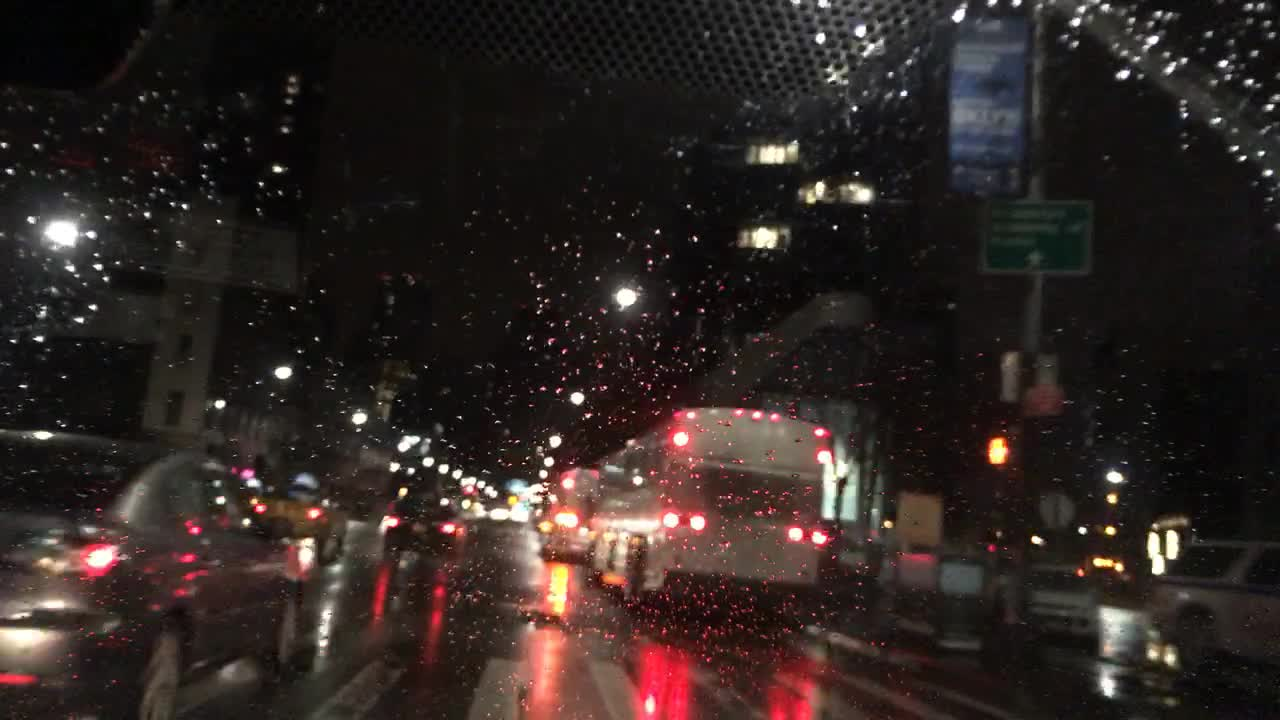bus: (591, 406, 832, 611), (540, 468, 592, 557)
car: (0, 428, 314, 718), (1150, 535, 1279, 663), (252, 492, 344, 562), (382, 492, 466, 551), (1033, 564, 1098, 636), (1087, 551, 1132, 590)
traffic light: (989, 438, 1010, 465)
traffic sign: (950, 53, 1023, 161), (986, 201, 1092, 271), (1005, 353, 1058, 398), (954, 19, 1026, 50), (954, 166, 1022, 191), (1024, 387, 1062, 411), (1044, 494, 1074, 524)
